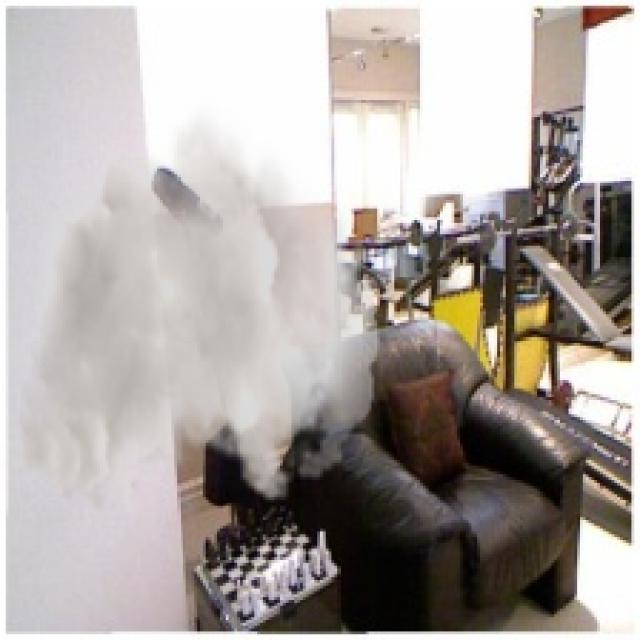smoke: (17, 97, 380, 514)
